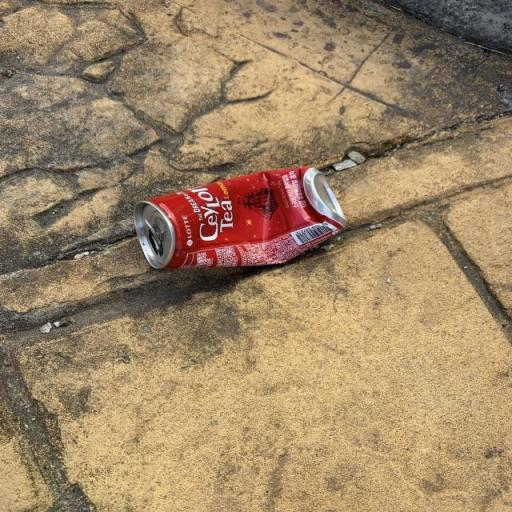metal: (111, 152, 396, 293)
